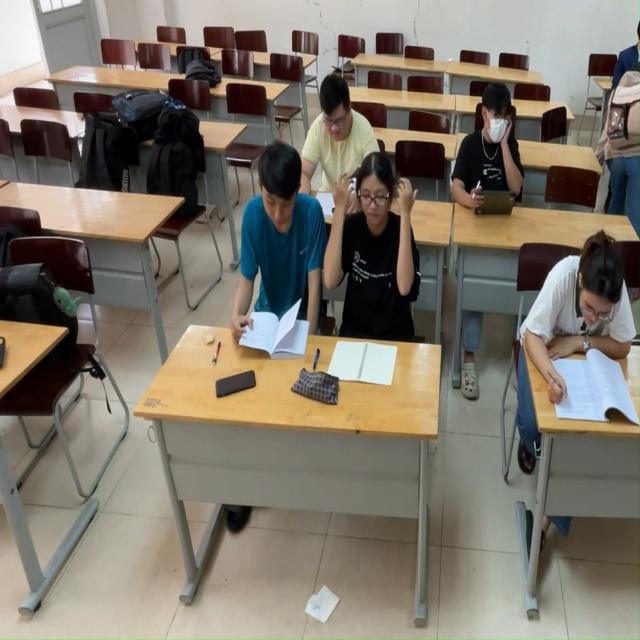read: (526, 236, 640, 418), (232, 157, 327, 370), (460, 76, 547, 220)
